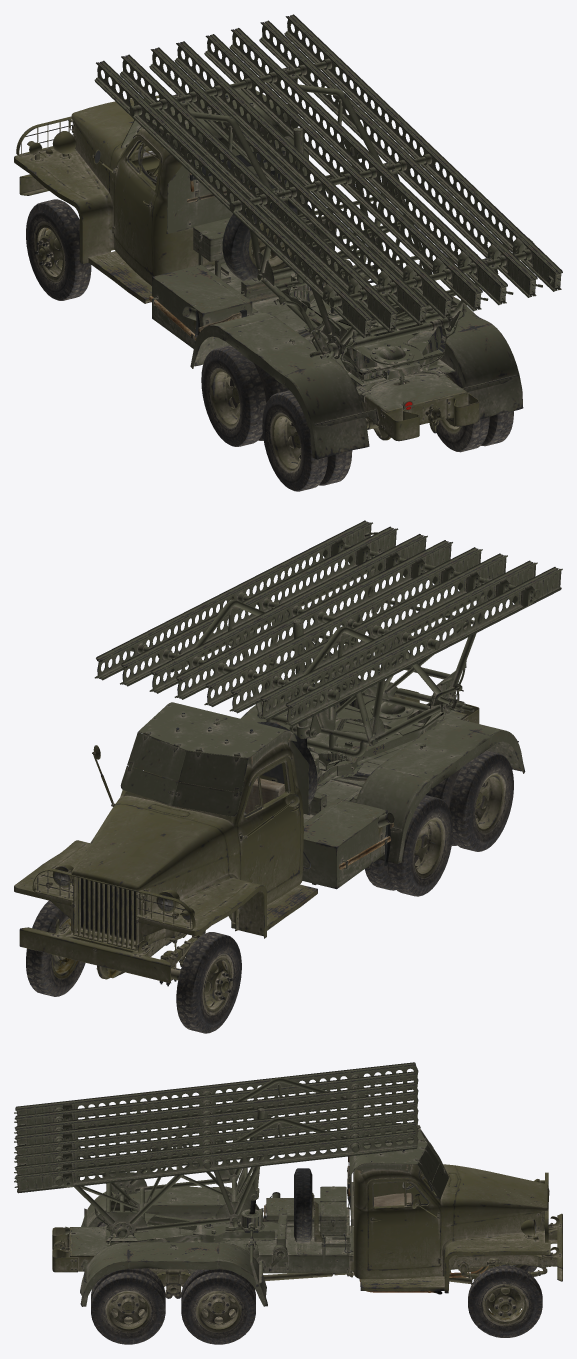
The picture shows the model from 3 angles, top to bottom: view 1: azimuth 30°, elevation 25°; view 2: azimuth 150°, elevation 25°; view 3: azimuth 270°, elevation 25°; orthographic projection. The views are drawn at different scales.
Parts seen in each view (by area): view 1: gun_0, hull_0, chassis_1, turret_0, chassis_0; view 2: hull_0, gun_0, chassis_1, chassis_0, turret_0; view 3: hull_0, gun_0, chassis_1, chassis_0, turret_0.
Part boxes in pixels (left/top/right/bottom): gun_0: left=94, top=14, right=562, bottom=381; hull_0: left=14, top=89, right=523, bottom=459; chassis_1: left=26, top=199, right=513, bottom=491; turret_0: left=279, top=256, right=446, bottom=386; chassis_0: left=34, top=222, right=461, bottom=473; hull_0: left=14, top=688, right=525, bottom=983; gun_0: left=94, top=520, right=562, bottom=757; chassis_1: left=26, top=750, right=513, bottom=1033; chassis_0: left=51, top=773, right=505, bottom=1014; turret_0: left=295, top=684, right=443, bottom=790; hull_0: left=52, top=1122, right=562, bottom=1306; gun_0: left=14, top=1062, right=418, bottom=1244; chassis_1: left=91, top=1220, right=542, bottom=1344; chassis_0: left=105, top=1262, right=547, bottom=1332; turret_0: left=105, top=1190, right=277, bottom=1287.
Size of the model in its own units: 1.24 by 1.44 by 3.4.
Materials: 5 (5 with a texture image).
